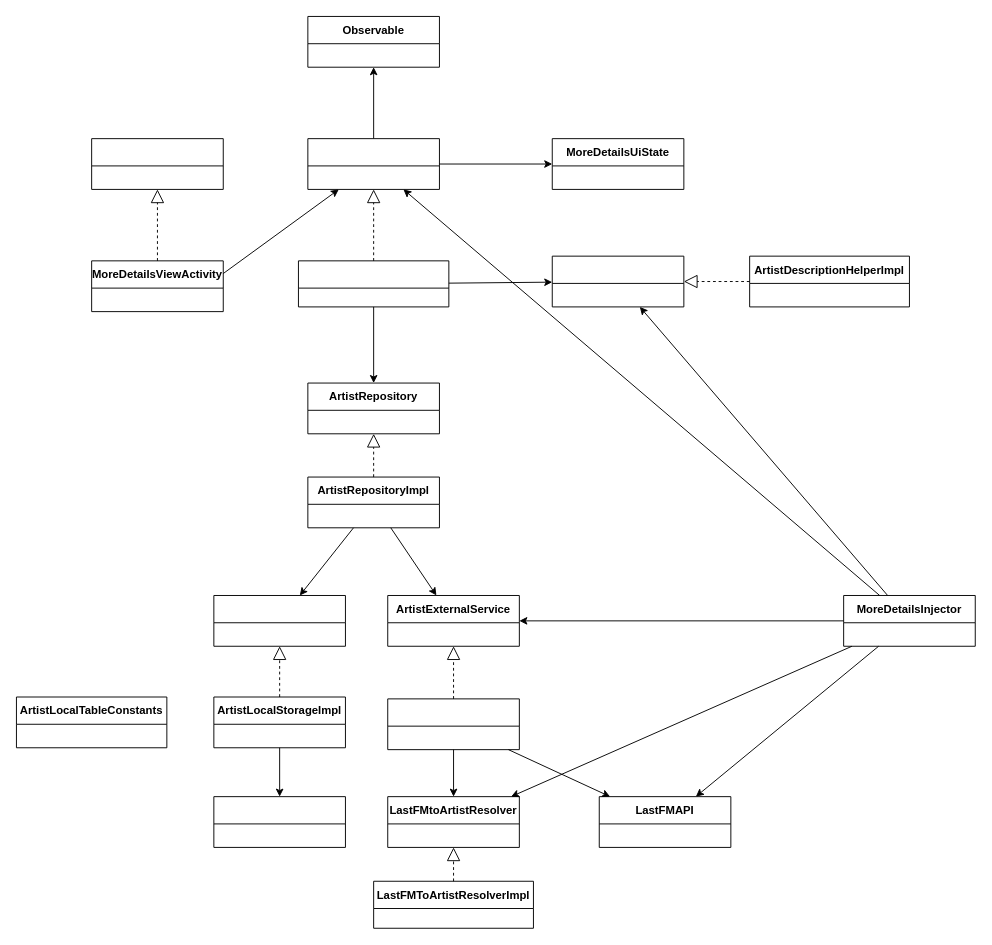
The diagram is 992 pixels wide and 945 high, and some of its shapes have lost their labels. Here are the shapes that lost their labels. From the top down, the box of each, then its label:
(91, 138, 223, 189): MoreDetailsView
(307, 138, 439, 189): MoreDetailsPresenter
(298, 260, 449, 307): MoreDetailsPresenterImpl
(551, 255, 684, 307): ArtistDescriptionHelper
(213, 595, 345, 646): ArtistLocalStorage
(387, 698, 519, 750): ArtistExternalServiceImpl
(213, 796, 345, 847): CursosToArtistLocal
